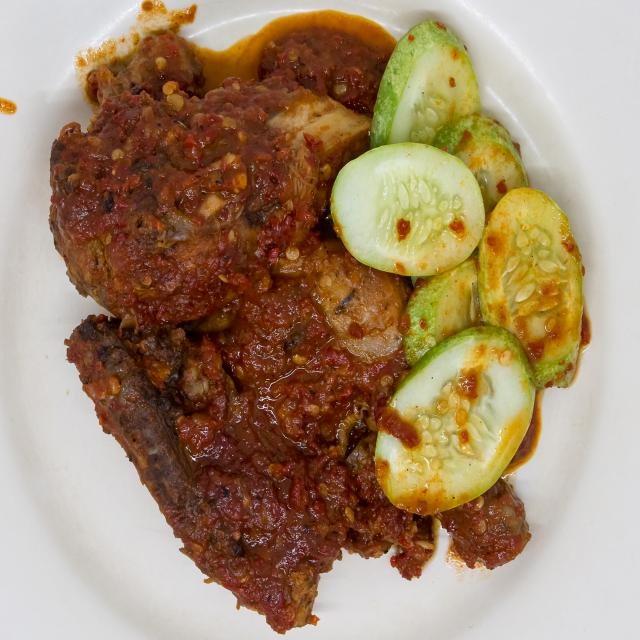Ayam-Bumbu-Rujak: (49, 25, 542, 630)
